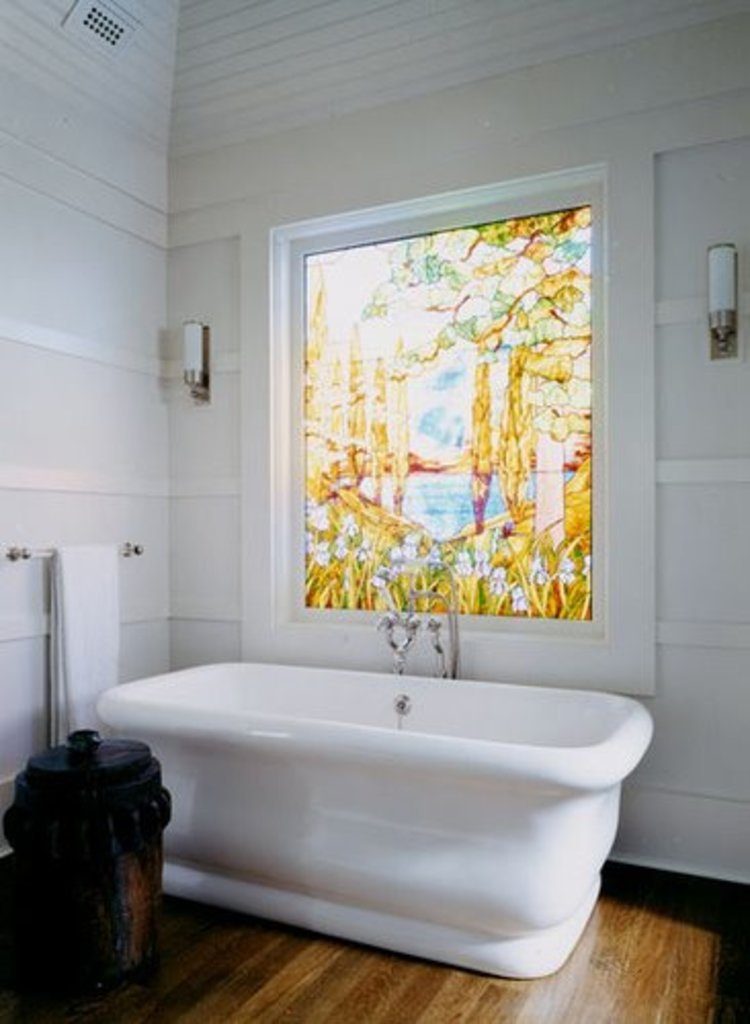tap: (375, 612, 420, 681)
